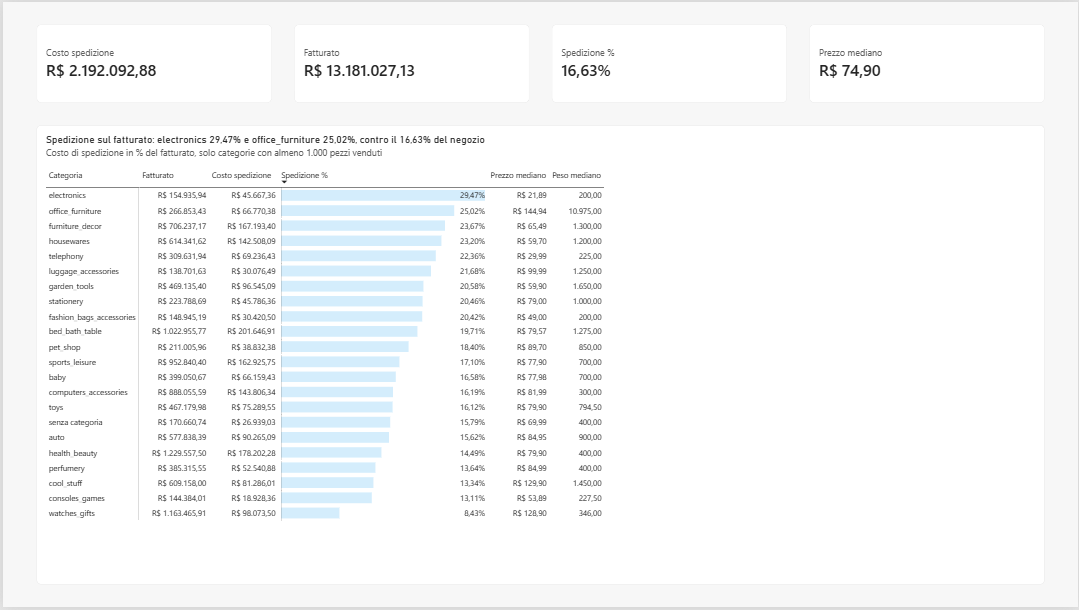

What the dashboard file says about the page in this screenshot:
{"tool":"powerbi","page":{"name":"Spedizione","canvas":[1920,1080],"ordinal":2},"visuals":[{"type":"cardVisual","fields":{"Data":["clean order_items.Spedizioni"]},"box":[60,40,420,140],"z":0},{"type":"cardVisual","fields":{"Data":["clean order_items.Fatturato"]},"box":[520,40,420,140],"z":1000},{"type":"cardVisual","fields":{"Data":["clean order_items.Spedizione %"]},"box":[980,40,420,140],"z":2000},{"type":"pivotTable","title":"Spedizione sul fatturato: electronics 29,47% e office_furniture 25,02%, contro il 16,63% del negozio","fields":{"Rows":["clean products.product_category"],"Values":["clean order_items.Fatturato","clean order_items.Spedizioni","clean order_items.Spedizione %","clean order_items.Prezzo mediano","clean products.Peso mediano"]},"box":[60,220,1800,820],"z":3000},{"type":"cardVisual","fields":{"Data":["clean order_items.Prezzo mediano"]},"box":[1440,40,420,140],"z":4000}]}

Visuals, with their boxes in screenshot pixels (x1, y1, x2, y2), scaled from the page's 1920x1080 canvas onto the 1079x610 screenshot:
cardVisual - clean order_items.Spedizioni: pyautogui.locateOnScreen(34, 23, 270, 102)
cardVisual - clean order_items.Fatturato: pyautogui.locateOnScreen(292, 23, 528, 102)
cardVisual - clean order_items.Spedizione %: pyautogui.locateOnScreen(551, 23, 787, 102)
"Spedizione sul fatturato: electronics 29,47% e office_furniture 25,02%, contro il 16,63% del negozio" pivotTable: pyautogui.locateOnScreen(34, 124, 1045, 587)
cardVisual - clean order_items.Prezzo mediano: pyautogui.locateOnScreen(809, 23, 1045, 102)
